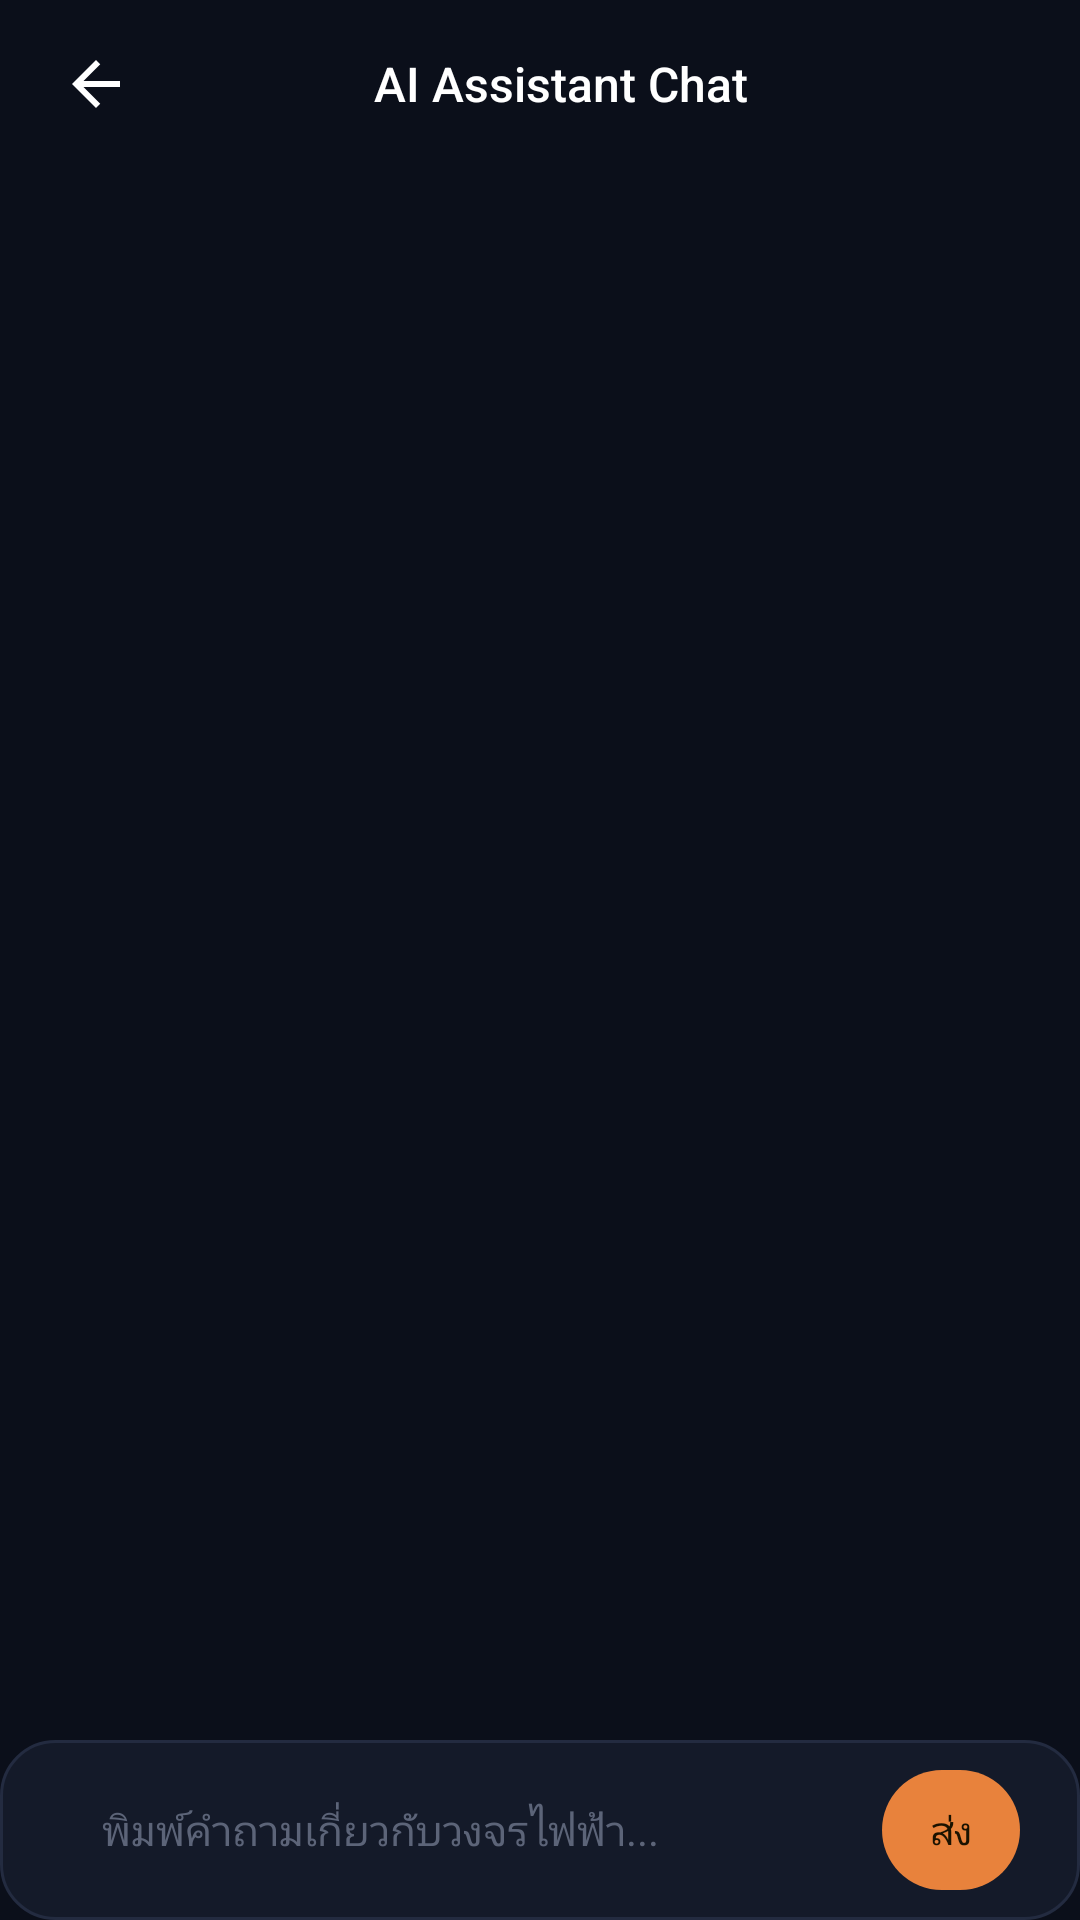

Where to tap for icons on this 1080w x 1920h app screen, as (x,y):
back: (96,84)
